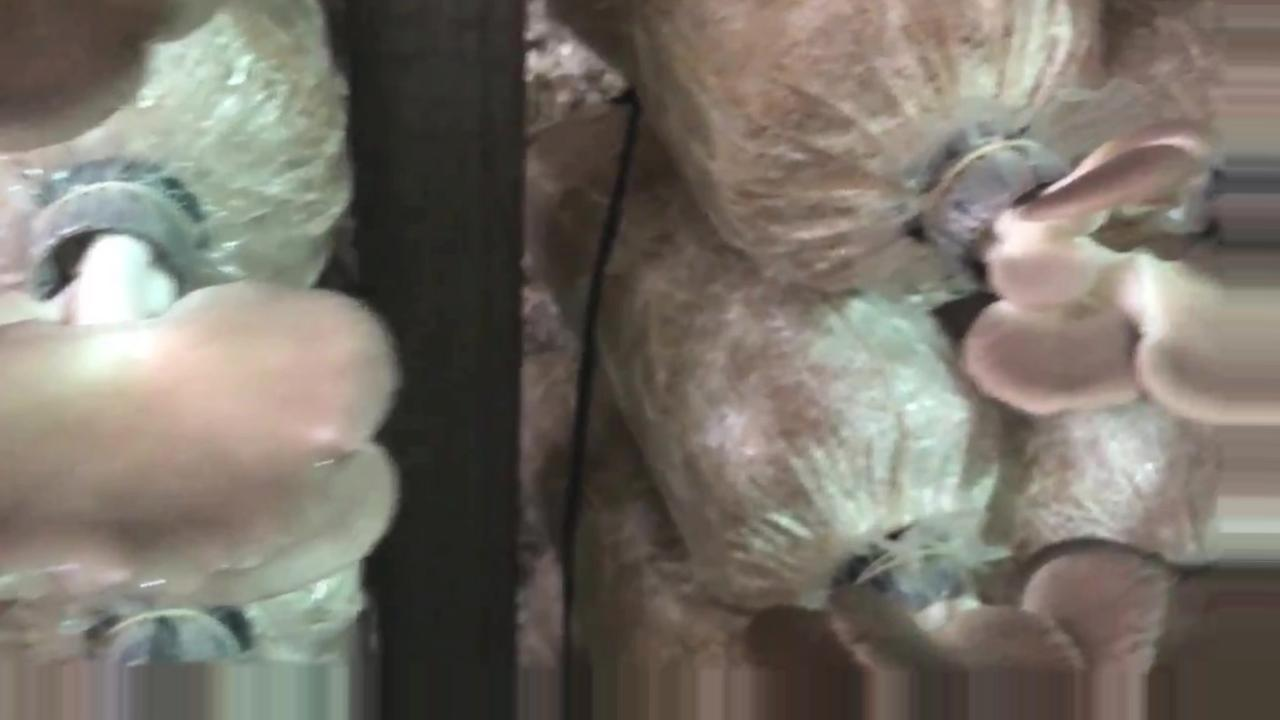nam: (1, 181, 409, 620), (924, 116, 1280, 432), (741, 512, 1143, 720), (9, 1, 232, 162)
